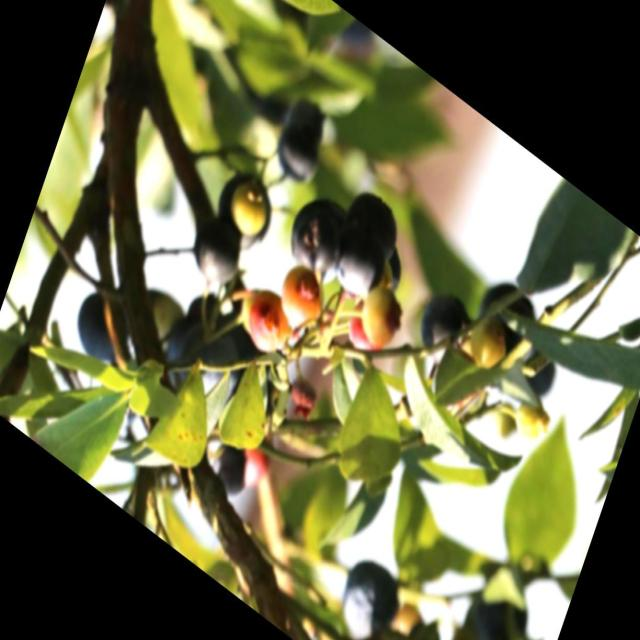blueberry: (152, 296, 250, 433), (279, 178, 357, 297), (469, 266, 547, 374), (328, 540, 411, 639), (205, 154, 279, 260), (65, 278, 136, 382), (336, 178, 407, 278), (410, 278, 473, 378), (326, 220, 388, 310), (186, 205, 247, 295), (271, 116, 326, 194), (203, 432, 256, 508)
blueberry-halfripe: (239, 281, 295, 367), (272, 260, 326, 340), (354, 278, 405, 356)
blueberry-unripe: (460, 308, 516, 388), (225, 169, 275, 244)
